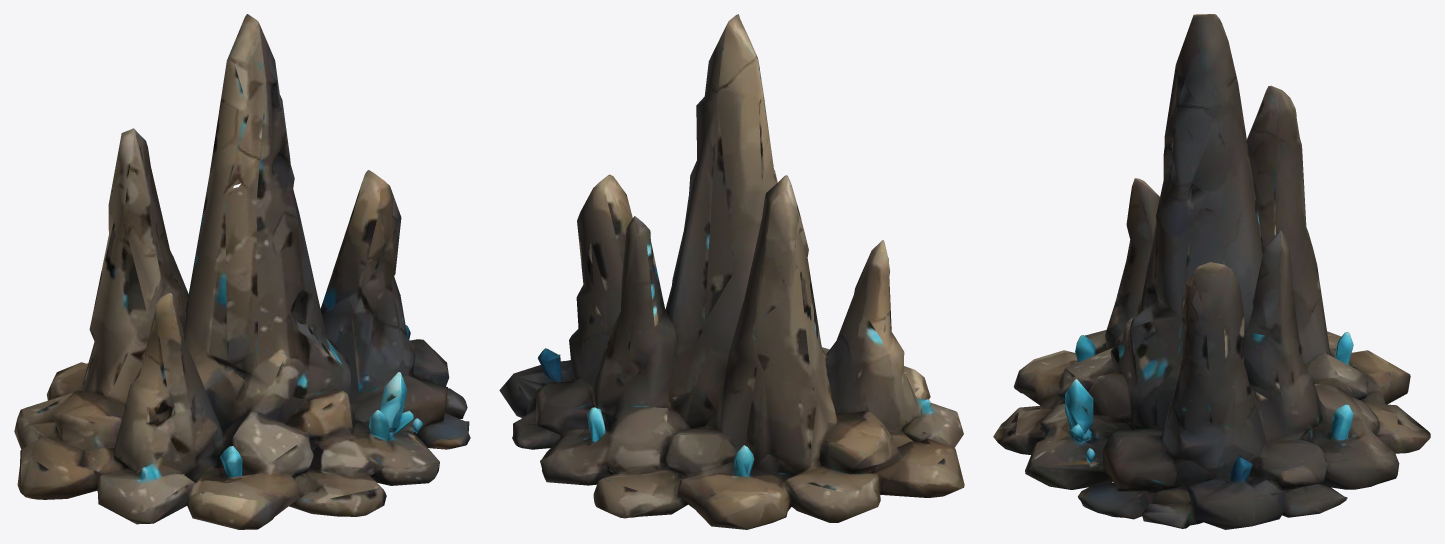
File: cstalag.glb
3 renders of one model, left to right at view 1: azimuth 30°, elevation 25°; view 2: azimuth 150°, elevation 25°; view 3: azimuth 270°, elevation 25°, orthographic.
Parts seen in each view (by area): view 1: tripo_node_5298bf67; view 2: tripo_node_5298bf67; view 3: tripo_node_5298bf67.
Part boxes in pixels (left/top/right/bottom): tripo_node_5298bf67: left=14, top=14, right=470, bottom=529; tripo_node_5298bf67: left=499, top=14, right=964, bottom=529; tripo_node_5298bf67: left=993, top=14, right=1430, bottom=529.
Size of the model in its own units: 99.49 by 90.53 by 85.23.
Materials: 1 (1 with a texture image).
